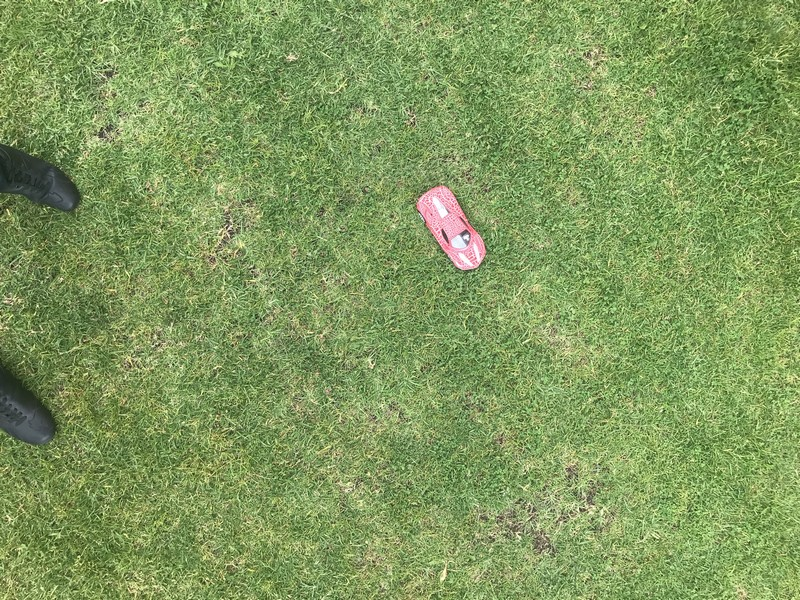RC: (415, 184, 487, 274)
